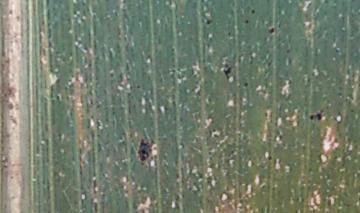tarspot: (137, 138, 155, 166), (222, 66, 233, 80), (267, 25, 276, 37), (315, 111, 323, 122), (266, 57, 274, 68), (108, 70, 116, 80), (55, 94, 62, 104), (204, 18, 212, 26), (284, 47, 292, 55), (308, 113, 315, 122), (266, 154, 273, 162), (249, 8, 257, 15), (334, 46, 341, 54), (7, 7, 13, 16), (278, 133, 283, 143), (243, 18, 250, 25), (348, 107, 355, 114), (242, 81, 250, 87), (226, 30, 232, 37), (211, 127, 217, 134), (135, 83, 141, 90), (263, 110, 269, 117), (170, 46, 176, 52), (199, 1, 206, 5), (121, 1, 127, 5), (323, 1, 328, 5)
